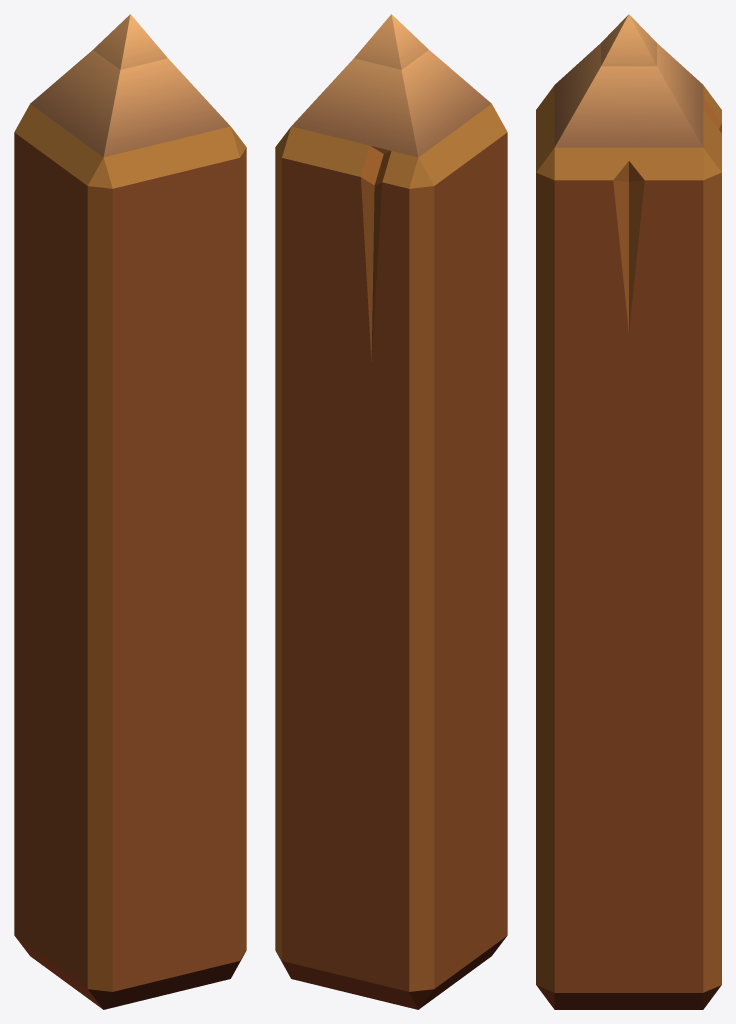
The model's file is m_deco_fence_large.FBX.
The picture shows the model from 3 angles, left to right: view 1: azimuth 30°, elevation 25°; view 2: azimuth 150°, elevation 25°; view 3: azimuth 270°, elevation 25°; orthographic projection.
Parts seen in each view (by area): view 1: m_deco_fence_large; view 2: m_deco_fence_large; view 3: m_deco_fence_large.
Part boxes in pixels (bbox=[...]): m_deco_fence_large: bbox=[14, 14, 246, 1009]; m_deco_fence_large: bbox=[275, 14, 507, 1009]; m_deco_fence_large: bbox=[536, 14, 721, 1009].
Bounding box in the file's own units: 0.6729 × 3.86 × 0.6729.
